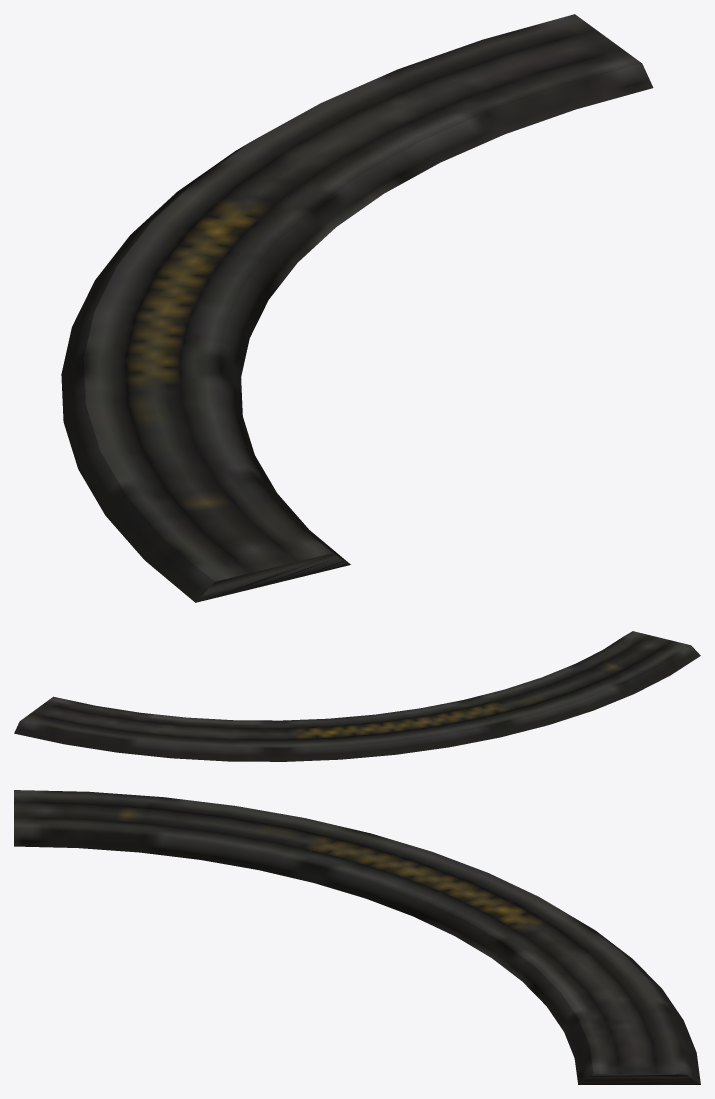
The model's file is Panel_20_90deg.FBX.
The picture shows the model from 3 angles, top to bottom: view 1: azimuth 30°, elevation 25°; view 2: azimuth 150°, elevation 25°; view 3: azimuth 270°, elevation 25°; orthographic projection. The views are drawn at different scales.
Parts seen in each view (by area): view 1: Panel_20_90deg; view 2: Panel_20_90deg; view 3: Panel_20_90deg.
Boxes of the visible parts, x1,y1,x2,y2 form: Panel_20_90deg: (61, 14, 653, 602); Panel_20_90deg: (14, 631, 700, 761); Panel_20_90deg: (14, 790, 700, 1084).
Size of the model in its own units: 280 by 5 by 280.
